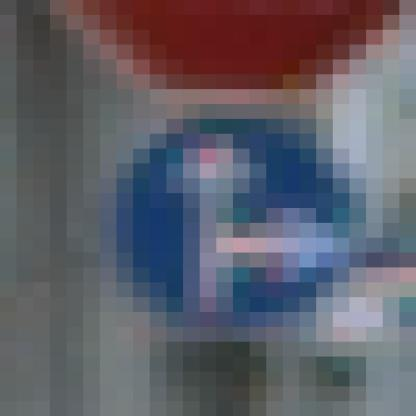Straight or Right: (84, 75, 334, 328)
